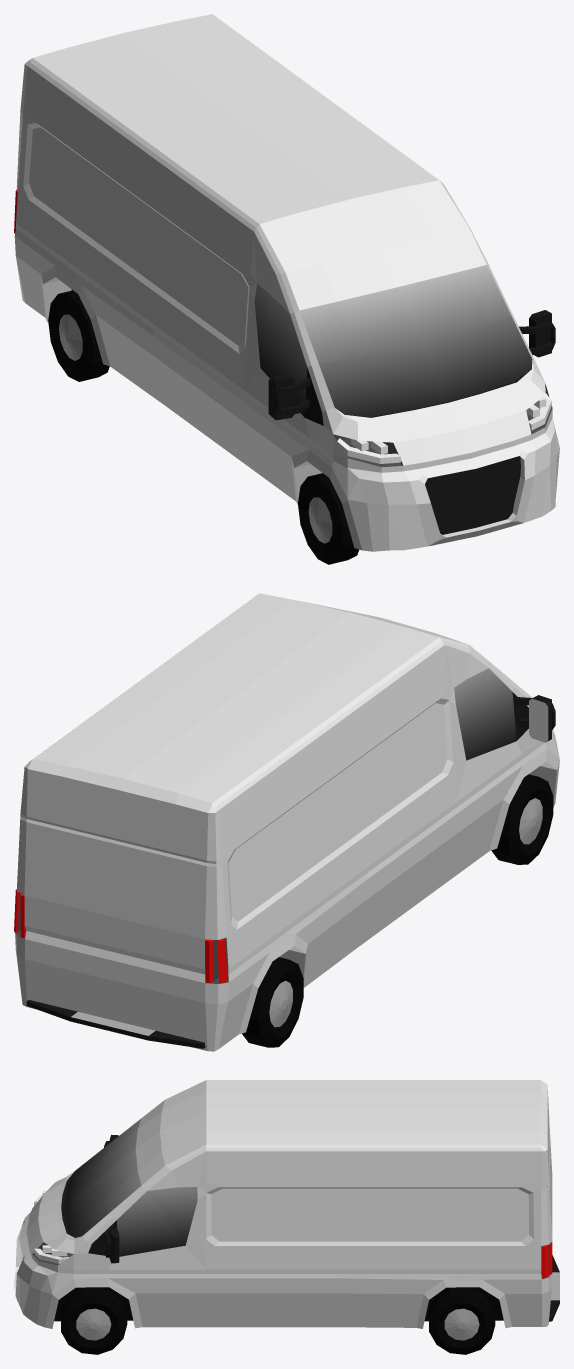
The model's file is van 4.fbx.
3 views of the same model, one above another, from view 1: azimuth 30°, elevation 25°; view 2: azimuth 150°, elevation 25°; view 3: azimuth 270°, elevation 25° (orthographic). The views are drawn at different scales.
Parts seen in each view (by area): view 1: Plane, FR_Wheel, RR_Wheel; view 2: Plane, RR_Wheel, FR_Wheel; view 3: Plane, FL_Wheel, RL_Wheel.
Boxes of the visible parts, left/top/right/bottom form: Plane: left=14, top=14, right=559, bottom=551; FR_Wheel: left=298, top=473, right=358, bottom=564; RR_Wheel: left=48, top=290, right=109, bottom=381; Plane: left=14, top=593, right=559, bottom=1051; RR_Wheel: left=242, top=957, right=303, bottom=1047; FR_Wheel: left=491, top=774, right=553, bottom=864; Plane: left=14, top=1080, right=559, bottom=1328; FL_Wheel: left=61, top=1287, right=127, bottom=1354; RL_Wheel: left=429, top=1287, right=495, bottom=1354.
Size of the model in its own units: 206 by 197 by 471.
